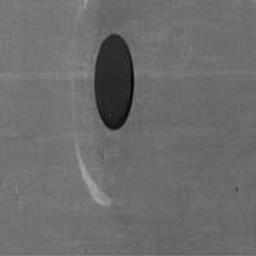Punching: (93, 33, 136, 133)
